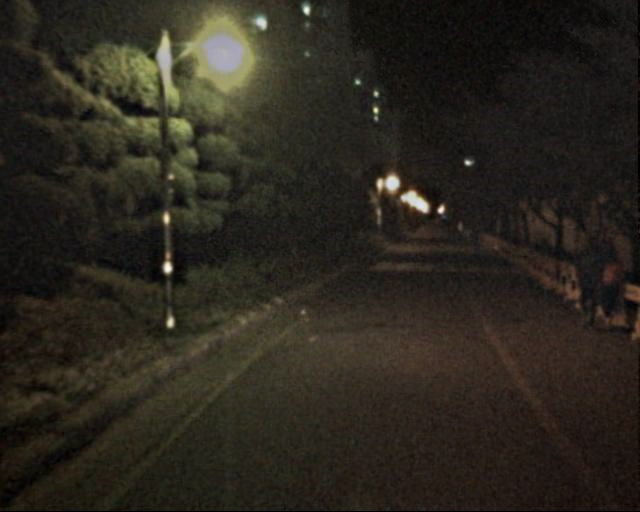person: (571, 238, 609, 330), (590, 243, 624, 326)
